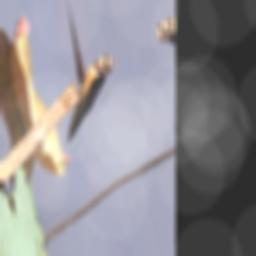Swallow: (52, 50, 125, 146)
